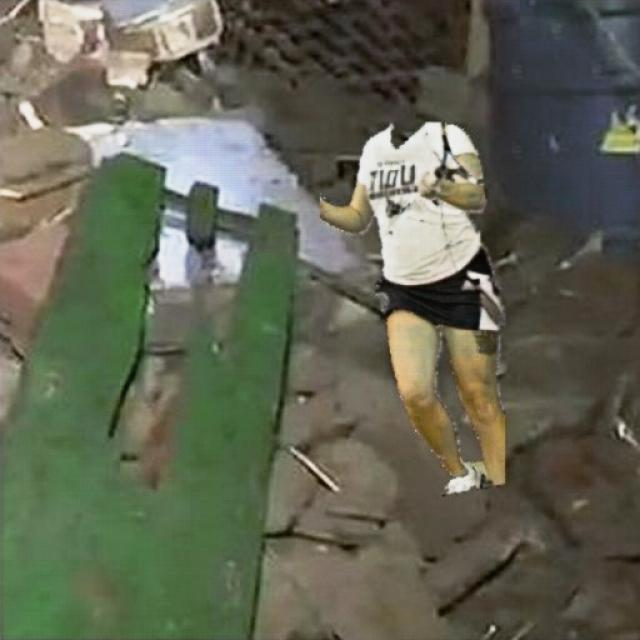Person in Rubble: (320, 122, 504, 496)
